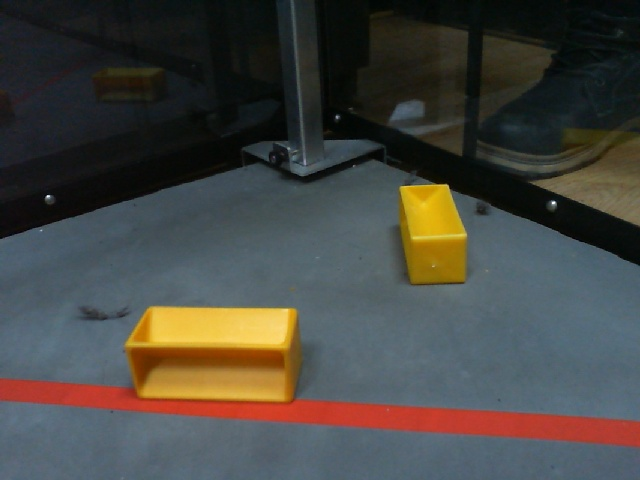YellowSample: (121, 303, 312, 407), (391, 176, 474, 290)
